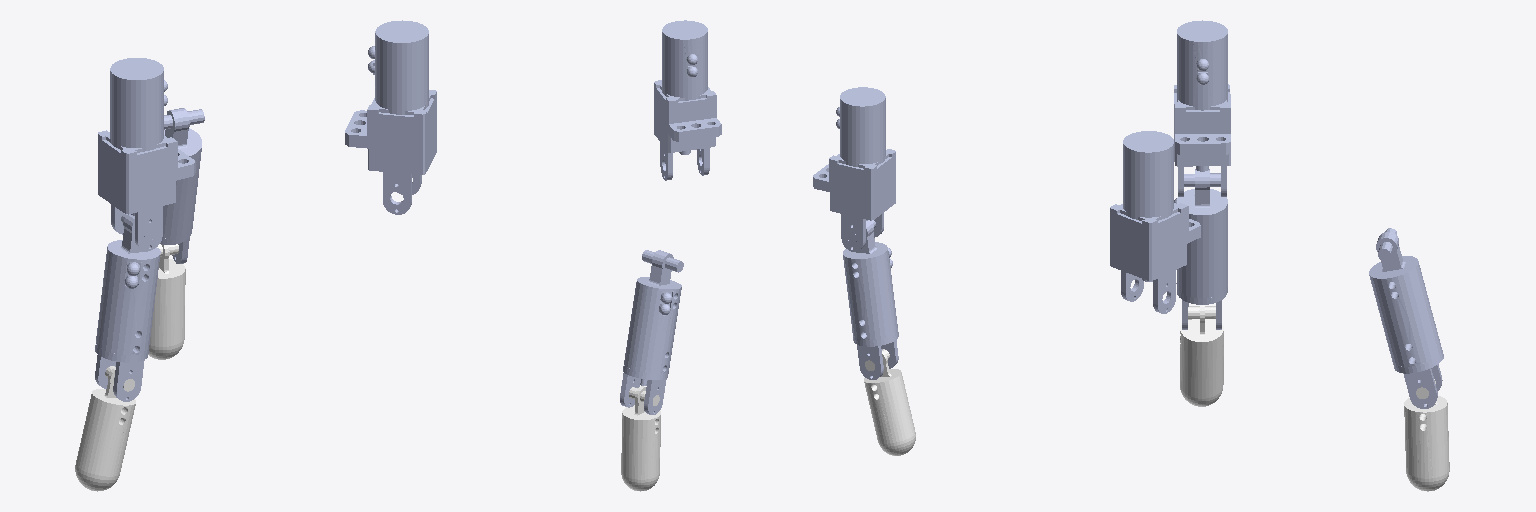
URDF robot description (hand_pa10):
<robot
  name="hand_pa10">
  <link
    name="gripper">
    <inertial>
      <origin
        xyz="0.0368692200186535 0.00525425297379967 -0.00283604582715048"
        rpy="0 0 0" />
      <mass
        value="0.430073369143217" />
      <inertia
        ixx="0.000611744889843359"
        ixy="-2.06001439258417E-06"
        ixz="-1.03208571938051E-06"
        iyy="0.000560583735478907"
        iyz="6.34033786478912E-05"
        izz="0.000343341303407109" />
    </inertial>
    <visual>
      <origin
        xyz="0 0 0"
        rpy="0 0 0" />
      <geometry>
        <mesh
          filename="package://pa10_description/meshes/hand/gripper.STL" />
      </geometry>
      <material
        name="">
        <color
          rgba="0.752941176470588 0.752941176470588 0.752941176470588 1" />
      </material>
    </visual>
    <collision>
      <origin
        xyz="0 0 0"
        rpy="0 0 0" />
      <geometry>
        <mesh
          filename="package://pa10_description/meshes/hand/gripper.STL" />
      </geometry>
    </collision>
  </link>
  <link
    name="finger1_link1">
    <inertial>
      <origin
        xyz="0.0031351868708861 3.43093877960832E-10 -0.0314420828468145"
        rpy="0 0 0" />
      <mass
        value="0.0228985256548299" />
      <inertia
        ixx="1.69722454389112E-06"
        ixy="1.68802935817064E-13"
        ixz="-1.05916332117785E-07"
        iyy="6.58697860194868E-06"
        iyz="1.76377793826718E-10"
        izz="6.47543836354742E-06" />
    </inertial>
    <visual>
      <origin
        xyz="0 0 0"
        rpy="0 0 0" />
      <geometry>
        <mesh
          filename="package://pa10_description/meshes/hand/finger1_link1.STL" />
      </geometry>
      <material
        name="">
        <color
          rgba="0.796078431372549 0.823529411764706 0.937254901960784 1" />
      </material>
    </visual>
    <collision>
      <origin
        xyz="0 0 0"
        rpy="0 0 0" />
      <geometry>
        <mesh
          filename="package://pa10_description/meshes/hand/finger1_link1.STL" />
      </geometry>
    </collision>
  </link>
  <joint
    name="finger1_joint1"
    type="revolute">
    <origin
      xyz="0.0137666859093576 -0.00328431870897974 -0.0277269520851052"
      rpy="1.5707963267949 -1.5707963267949 0" />
    <parent
      link="gripper" />
    <child
      link="finger1_link1" />
    <axis
      xyz="-1 0 0" />
    <limit upper="-0.0175" lower="-3.1575" velocity="10" effort="10"/>
  </joint>
  <link
    name="finger1_link2">
    <inertial>
      <origin
        xyz="0.0029690080364329 -0.0300000647526269 -0.00396922765369375"
        rpy="0 0 0" />
      <mass
        value="0.014069705744009" />
      <inertia
        ixx="3.39016851778417E-06"
        ixy="-5.98624308681446E-09"
        ixz="1.85438176660523E-09"
        iyy="7.3613270337691E-07"
        iyz="3.48728165404213E-07"
        izz="3.36330831860887E-06" />
    </inertial>
    <visual>
      <origin
        xyz="0 0 0"
        rpy="0 0 0" />
      <geometry>
        <mesh
          filename="package://pa10_description/meshes/hand/finger1_link2.STL" />
      </geometry>
      <material
        name="">
        <color
          rgba="0.796078431372549 0.823529411764706 0.937254901960784 1" />
      </material>
    </visual>
    <collision>
      <origin
        xyz="0 0 0"
        rpy="0 0 0" />
      <geometry>
        <mesh
          filename="package://pa10_description/meshes/hand/finger1_link2.STL" />
      </geometry>
    </collision>
  </link>
  <joint
    name="finger1_joint2"
    type="revolute">
    <origin
      xyz="-0.0300000000000157 0.00299999209212372 -0.0320000000000012"
      rpy="0 0 -1.5707963267949" />
    <parent
      link="finger1_link1" />
    <child
      link="finger1_link2" />
    <axis
      xyz="-1 0 0" />
    <limit upper="1.56" lower="-1.56" velocity="10" effort="10"/>
  </joint>
  <link
    name="finger1_link3">
    <inertial>
      <origin
        xyz="0.00780000046621755 -0.0232631748418236 -0.0059211764353593"
        rpy="0 0 0" />
      <mass
        value="0.007947080533762" />
      <inertia
        ixx="1.11971182866768E-06"
        ixy="1.73533620391586E-14"
        ixz="-2.12743518794951E-14"
        iyy="3.23711488257812E-07"
        iyz="2.02591786363567E-07"
        izz="1.06809021167733E-06" />
    </inertial>
    <visual>
      <origin
        xyz="0 0 0"
        rpy="0 0 0" />
      <geometry>
        <mesh
          filename="package://pa10_description/meshes/hand/finger1_link3.STL" />
      </geometry>
      <material
        name="">
        <color
          rgba="1 1 1 1" />
      </material>
    </visual>
    <collision>
      <origin
        xyz="0 0 0"
        rpy="0 0 0" />
      <geometry>
        <mesh
          filename="package://pa10_description/meshes/hand/finger1_link3.STL" />
      </geometry>
    </collision>
  </link>
  <joint
    name="finger1_joint3"
    type="revolute">
    <origin
      xyz="-0.00479999999996626 -0.0607260484127808 -0.00799798324356139"
      rpy="0 0 0" />
    <parent
      link="finger1_link2" />
    <child
      link="finger1_link3" />
    <axis
      xyz="-1 0 0" />
    <limit upper="0.89" lower="-2.25" velocity="10" effort="10"/>
  </joint>
  <link
    name="finger2_link1">
    <inertial>
      <origin
        xyz="0.00813518969691906 -0.0233122544536928 0.0210984199219801"
        rpy="0 0 0" />
      <mass
        value="0.0228985289262227" />
      <inertia
        ixx="1.69722463098816E-06"
        ixy="-7.85299345145062E-08"
        ixz="7.10721564891137E-08"
        iyy="6.52583889835164E-06"
        iyz="-5.55112197092287E-08"
        izz="6.53658073146773E-06" />
    </inertial>
    <visual>
      <origin
        xyz="0 0 0"
        rpy="0 0 0" />
      <geometry>
        <mesh
          filename="package://pa10_description/meshes/hand/finger2_link1.STL" />
      </geometry>
      <material
        name="">
        <color
          rgba="0.796078431372549 0.823529411764706 0.937254901960784 1" />
      </material>
    </visual>
    <collision>
      <origin
        xyz="0 0 0"
        rpy="0 0 0" />
      <geometry>
        <mesh
          filename="package://pa10_description/meshes/hand/finger2_link1.STL" />
      </geometry>
    </collision>
  </link>
  <joint
    name="finger2_joint1"
    type="revolute">
    <origin
      xyz="0.0597666859093572 -0.00328431870898067 -0.0327269520851049"
      rpy="1.5707963267949 -1.5707963267949 0" />
    <parent
      link="gripper" />
    <child
      link="finger2_link1" />
    <axis
      xyz="-1 0 0" />
    <limit upper="0.8238" lower="-2.3162" velocity="10" effort="10"/>
  </joint>
  <link
    name="finger2_link2">
    <inertial>
      <origin
        xyz="-0.00296900741373066 -0.0300000644997642 0.00396922670150728"
        rpy="0 0 0" />
      <mass
        value="0.014069704264772" />
      <inertia
        ixx="3.39016841693393E-06"
        ixy="5.98630832974388E-09"
        ixz="1.8542648092117E-09"
        iyy="7.36132641139324E-07"
        iyz="-3.48728124003475E-07"
        izz="3.36330823326152E-06" />
    </inertial>
    <visual>
      <origin
        xyz="0 0 0"
        rpy="0 0 0" />
      <geometry>
        <mesh
          filename="package://pa10_description/meshes/hand/finger2_link2.STL" />
      </geometry>
      <material
        name="">
        <color
          rgba="0.796078431372549 0.823529411764706 0.937254901960784 1" />
      </material>
    </visual>
    <collision>
      <origin
        xyz="0 0 0"
        rpy="0 0 0" />
      <geometry>
        <mesh
          filename="package://pa10_description/meshes/hand/finger2_link2.STL" />
      </geometry>
    </collision>
  </link>
  <joint
    name="finger2_joint2"
    type="revolute">
    <origin
      xyz="-0.0250000000003419 -0.0257389798929167 0.0192485021684102"
      rpy="-2.59337749764974E-14 0.835206077698823 -1.57079632679493" />
    <parent
      link="finger2_link1" />
    <child
      link="finger2_link2" />
    <axis
      xyz="-1 0 0" />
    <limit upper="1.56" lower="-1.56" velocity="10" effort="10"/>
  </joint>
  <link
    name="finger2_link3">
    <inertial>
      <origin
        xyz="0.000910000644182382 -0.0211274199890509 -0.011395956731729"
        rpy="0 0 0" />
      <mass
        value="0.00794707927793731" />
      <inertia
        ixx="1.11971171392873E-06"
        ixy="3.24957036261576E-14"
        ixz="-7.6733211794228E-15"
        iyy="4.63151561761394E-07"
        iyz="3.54113135639111E-07"
        izz="9.28649982144146E-07" />
    </inertial>
    <visual>
      <origin
        xyz="0 0 0"
        rpy="0 0 0" />
      <geometry>
        <mesh
          filename="package://pa10_description/meshes/hand/finger2_link3.STL" />
      </geometry>
      <material
        name="">
        <color
          rgba="1 1 1 1" />
      </material>
    </visual>
    <collision>
      <origin
        xyz="0 0 0"
        rpy="0 0 0" />
      <geometry>
        <mesh
          filename="package://pa10_description/meshes/hand/finger2_link3.STL" />
      </geometry>
    </collision>
  </link>
  <joint
    name="finger2_joint3"
    type="revolute">
    <origin
      xyz="-0.00209000000025145 -0.0607260484130769 0.00799798324351299"
      rpy="2.56 -7.21644966006352E-16 -3.14159265358978" />
    <parent
      link="finger2_link2" />
    <child
      link="finger2_link3" />
    <axis
      xyz="-1 0 0" />
    <limit upper="1.56" lower="-1.56" velocity="10" effort="10"/>
  </joint>
  <link
    name="finger3_link1">
    <inertial>
      <origin
        xyz="0.00813518699463836 -0.00419704568040072 -0.0311607024898838"
        rpy="0 0 0" />
      <mass
        value="0.0228985257973257" />
      <inertia
        ixx="1.69722454767862E-06"
        ixy="-1.41380911524761E-08"
        ixz="-1.04968476254267E-07"
        iyy="6.58494454481E-06"
        iyz="1.49257889291558E-08"
        izz="6.47747253640222E-06" />
    </inertial>
    <visual>
      <origin
        xyz="0 0 0"
        rpy="0 0 0" />
      <geometry>
        <mesh
          filename="package://pa10_description/meshes/hand/finger3_link1.STL" />
      </geometry>
      <material
        name="">
        <color
          rgba="0.796078431372549 0.823529411764706 0.937254901960784 1" />
      </material>
    </visual>
    <collision>
      <origin
        xyz="0 0 0"
        rpy="0 0 0" />
      <geometry>
        <mesh
          filename="package://pa10_description/meshes/hand/finger3_link1.STL" />
      </geometry>
    </collision>
  </link>
  <joint
    name="finger3_joint1"
    type="revolute">
    <origin
      xyz="0.0367666859093572 0.0365528498651035 -0.0327269520851049"
      rpy="1.5707963267949 -1.5707963267949 0" />
    <parent
      link="gripper" />
    <child
      link="finger3_link1" />
    <axis
      xyz="-1 0 0" />
    <limit upper="1.56" lower="-1.56" velocity="10" effort="10"/>
  </joint>
  <link
    name="finger3_link2">
    <inertial>
      <origin
        xyz="0.00296900664868397 -0.029363399647319 -0.00731775296216776"
        rpy="0 0 0" />
      <mass
        value="0.0140697055602007" />
      <inertia
        ixx="3.39016825447209E-06"
        ixy="-6.1568442744597E-09"
        ixz="1.16934010430556E-09"
        iyy="8.47293152926664E-07"
        iyz="6.33476686297977E-07"
        izz="3.25214781964137E-06" />
    </inertial>
    <visual>
      <origin
        xyz="0 0 0"
        rpy="0 0 0" />
      <geometry>
        <mesh
          filename="package://pa10_description/meshes/hand/finger3_link2.STL" />
      </geometry>
      <material
        name="">
        <color
          rgba="0.796078431372549 0.823529411764706 0.937254901960784 1" />
      </material>
    </visual>
    <collision>
      <origin
        xyz="0 0 0"
        rpy="0 0 0" />
      <geometry>
        <mesh
          filename="package://pa10_description/meshes/hand/finger3_link2.STL" />
      </geometry>
    </collision>
  </link>
  <joint
    name="finger3_joint2"
    type="revolute">
    <origin
      xyz="-0.0250000000001125 -0.00129836703277455 -0.0321140816939701"
      rpy="-2.24991512875808E-15 -0.133884609516019 -1.57079632679488" />
    <parent
      link="finger3_link1" />
    <child
      link="finger3_link2" />
    <axis
      xyz="-1 0 0" />
    <limit upper="1.56" lower="-1.56" velocity="10" effort="10"/>
  </joint>
  <link
    name="finger3_link3">
    <inertial>
      <origin
        xyz="-0.000910000447797862 0.000942710404951211 0.0239863911643955"
        rpy="0 0 0" />
      <mass
        value="0.00794707983552393" />
      <inertia
        ixx="1.11971177478374E-06"
        ixy="-2.22588162763174E-14"
        ixz="2.40986012998605E-14"
        iyy="1.11834876628532E-06"
        iyz="3.32574549414362E-08"
        izz="2.73452856963055E-07" />
    </inertial>
    <visual>
      <origin
        xyz="0 0 0"
        rpy="0 0 0" />
      <geometry>
        <mesh
          filename="package://pa10_description/meshes/hand/finger3_link3.STL" />
      </geometry>
      <material
        name="">
        <color
          rgba="1 1 1 1" />
      </material>
    </visual>
    <collision>
      <origin
        xyz="0 0 0"
        rpy="0 0 0" />
      <geometry>
        <mesh
          filename="package://pa10_description/meshes/hand/finger3_link3.STL" />
      </geometry>
    </collision>
  </link>
  <joint
    name="finger3_joint3"
    type="revolute">
    <origin
      xyz="0.00209000000462149 -0.0594414160536562 -0.014776290133899"
      rpy="-1.56 -1.94289029309402E-15 3.14159265358978" />
    <parent
      link="finger3_link2" />
    <child
      link="finger3_link3" />
    <axis
      xyz="-1 0 0" />
    <limit upper="1.56" lower="-1.56" velocity="10" effort="10"/>
  </joint>
  <gazebo>
	  <static>true</static>
  </gazebo>
</robot>

--- Facts derived from the render (not from the file) ---
3 views of the same robot in one strip: view 1: azimuth 30°, elevation 25°; view 2: azimuth 150°, elevation 25°; view 3: azimuth 270°, elevation 25° (orthographic).
Robot: hand_pa10 — 10 links, 9 joints (9 revolute); root link gripper; default pose: all joints at 0 but 1 set to mid-range because 0 is outside their limits (finger1_joint1 = -1.59).
Visible links, largest first — view 1: finger1_link1, finger2_link1, finger1_link2, finger1_link3, finger3_link2, finger3_link3; view 2: finger1_link1, finger2_link1, finger3_link2, finger1_link2, finger3_link3, finger1_link3; view 3: finger2_link1, finger1_link1, finger3_link2, finger1_link2, finger1_link3, finger3_link3.
Boxes of the visible links, bbox=[...] form: finger1_link1: bbox=[98, 58, 195, 250]; finger2_link1: bbox=[345, 20, 436, 214]; finger1_link2: bbox=[95, 213, 160, 401]; finger1_link3: bbox=[75, 366, 135, 491]; finger3_link2: bbox=[160, 108, 204, 263]; finger3_link3: bbox=[148, 244, 185, 359]; finger1_link1: bbox=[813, 87, 895, 251]; finger2_link1: bbox=[654, 20, 721, 180]; finger3_link2: bbox=[620, 250, 683, 414]; finger1_link2: bbox=[843, 220, 898, 379]; finger3_link3: bbox=[621, 386, 660, 491]; finger1_link3: bbox=[864, 349, 915, 455]; finger2_link1: bbox=[1110, 131, 1200, 313]; finger1_link1: bbox=[1174, 20, 1230, 196]; finger3_link2: bbox=[1369, 228, 1443, 408]; finger1_link2: bbox=[1174, 169, 1227, 329]; finger1_link3: bbox=[1180, 305, 1223, 406]; finger3_link3: bbox=[1404, 379, 1449, 491].
Size in the robot's own frame: 0.1421 by 0.1321 by 0.1683 metres.
6 mesh visuals loaded from 10 distinct referenced files (6 binary STL); not drawn: 4 (reference not matched to a file when rendering).